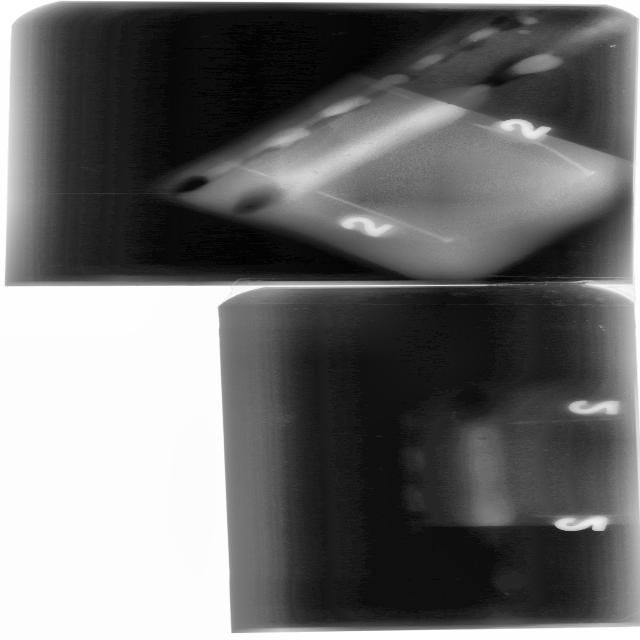porosity: (308, 169, 321, 175), (346, 153, 353, 157)
